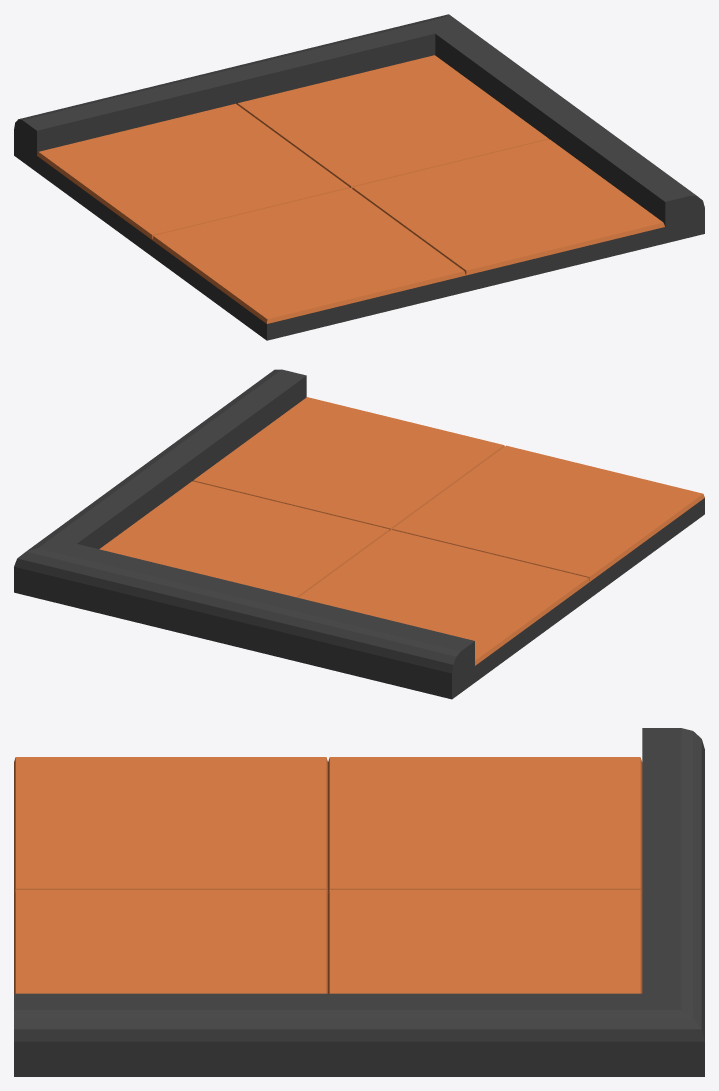
File: Playground Ground Corner.fbx
The picture shows the model from 3 angles, top to bottom: view 1: azimuth 30°, elevation 25°; view 2: azimuth 150°, elevation 25°; view 3: azimuth 270°, elevation 25°; orthographic projection. The views are drawn at different scales.
Visible parts, largest first — view 1: Playground Ground Corner; view 2: Playground Ground Corner; view 3: Playground Ground Corner.
Part boxes in pixels (left/top/right/bottom): Playground Ground Corner: left=14, top=14, right=704, bottom=340; Playground Ground Corner: left=14, top=369, right=704, bottom=699; Playground Ground Corner: left=14, top=728, right=704, bottom=1076.
Bounding box in the file's own units: 440 × 40 × 440.
